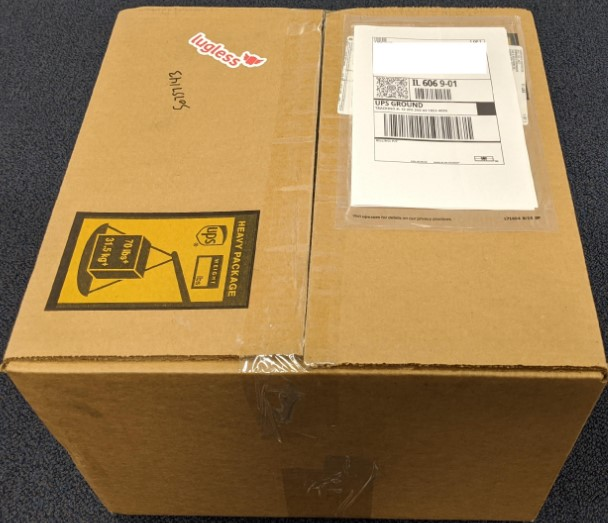stock: (8, 7, 606, 523)
